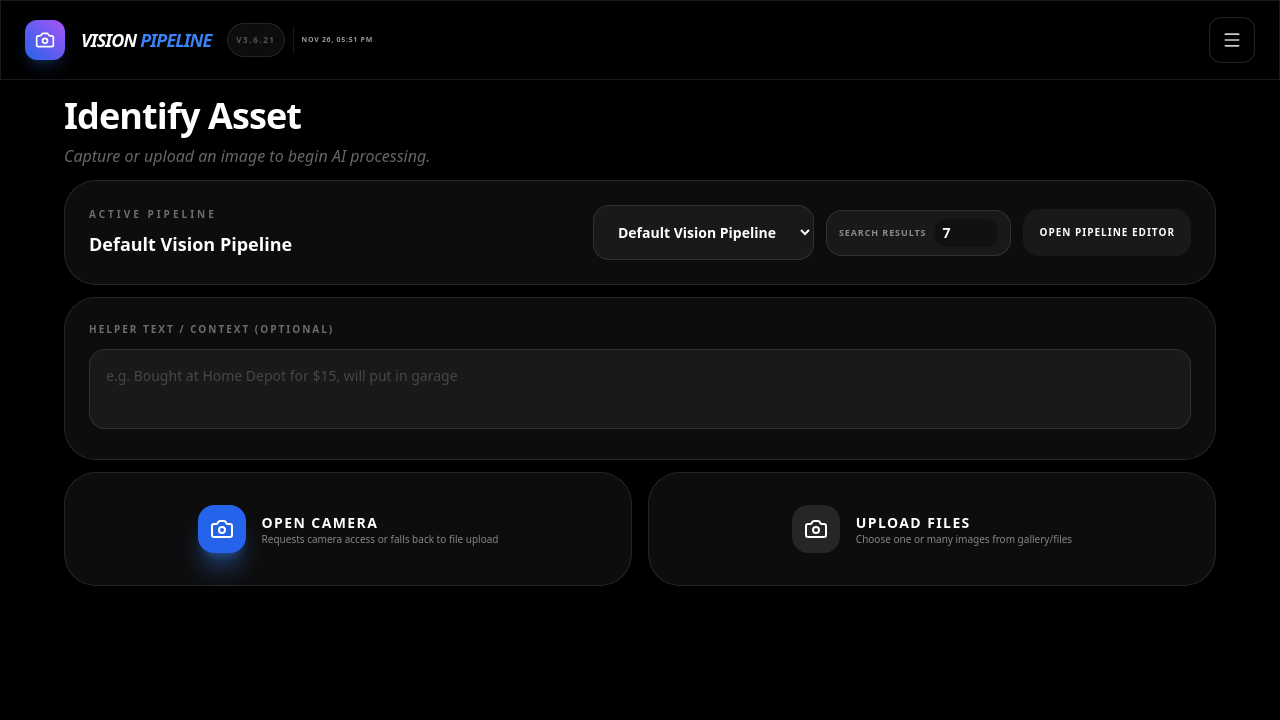
Vision Pipeline App › Feature: review-empty-state | shows empty state when queue is empty
Click the button named "open menu": {"x": 1232, "y": 40} [1209,17,1255,63]
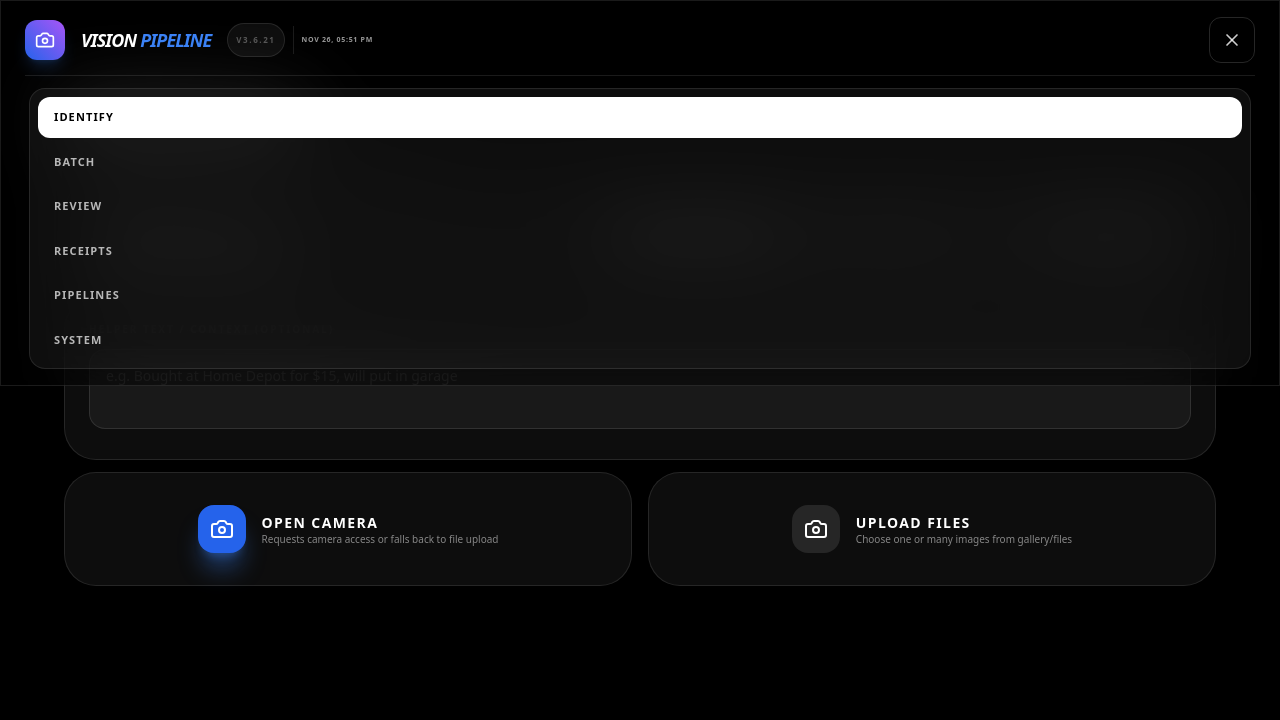
Click the button "review": {"x": 78, "y": 206} [38,186,1242,226]
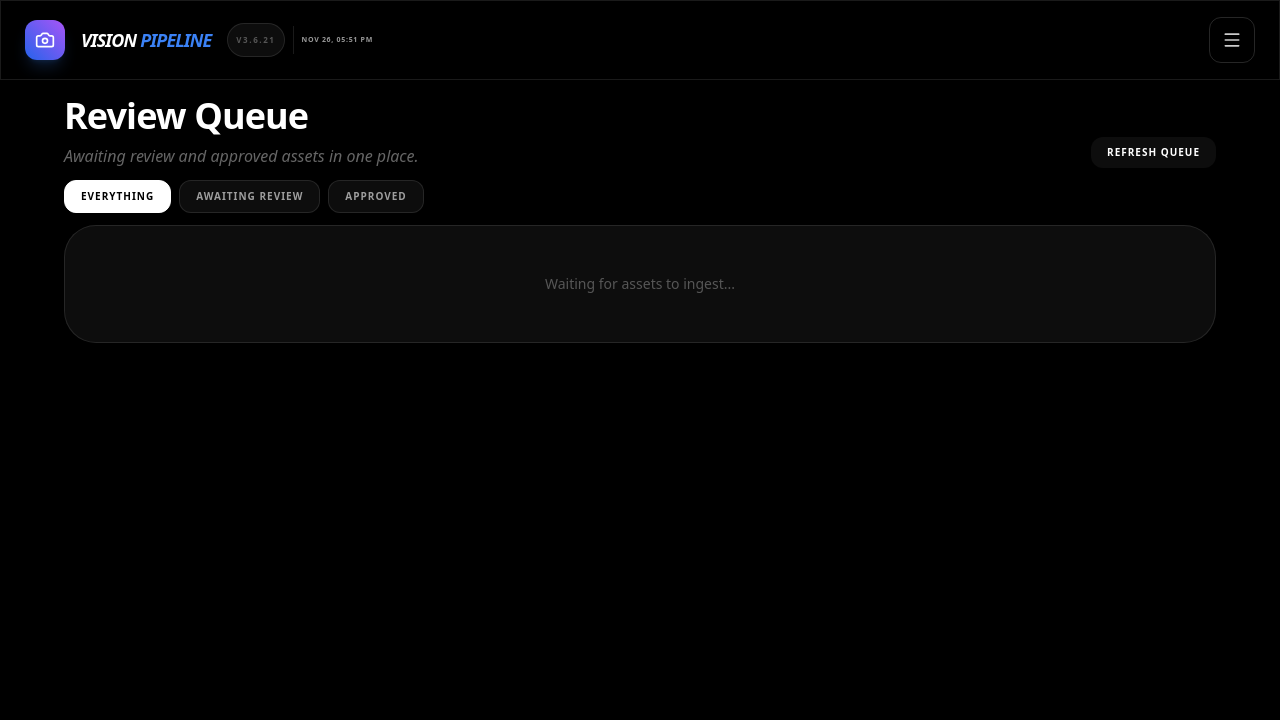
Check: the text "Waiting for assets to ingest..." is shown, box [545,274,735,293]
